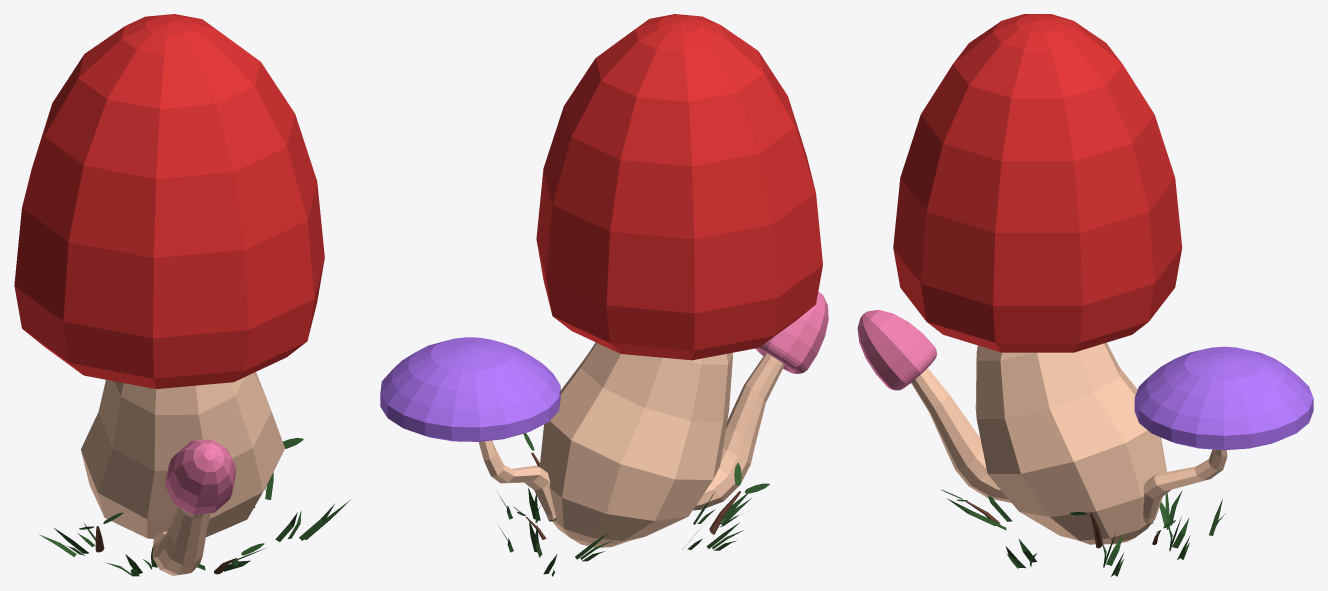
File: mushroom.fbx
3 renders of one model, left to right at view 1: azimuth 30°, elevation 25°; view 2: azimuth 150°, elevation 25°; view 3: azimuth 270°, elevation 25°, orthographic. The views are drawn at different scales.
Parts seen in each view (by area): view 1: pasted__pSphere9; view 2: pasted__pSphere9; view 3: pasted__pSphere9.
Boxes of the visible parts, left/top/right/bottom form: pasted__pSphere9: left=14, top=14, right=350, bottom=576; pasted__pSphere9: left=380, top=14, right=828, bottom=576; pasted__pSphere9: left=857, top=14, right=1313, bottom=576.
Bounding box in the file's own units: 12.8 × 19.53 × 16.32.
